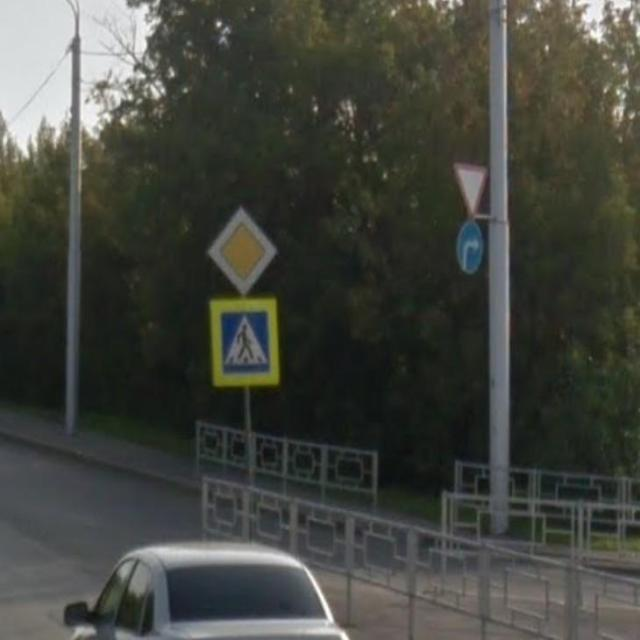crosswalk: (208, 298, 278, 390)
give_way: (449, 157, 493, 220)
road_main: (200, 198, 285, 300)
